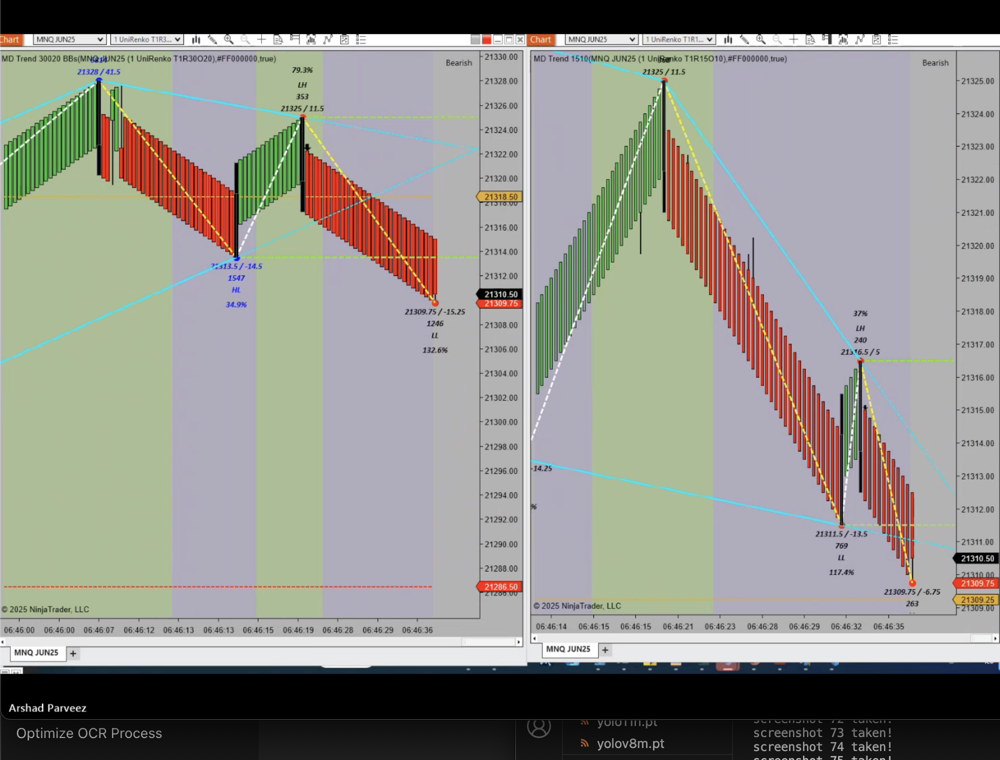HL: (228, 280, 246, 300)
LH: (849, 322, 874, 338), (289, 76, 311, 92)
LL: (424, 327, 451, 347), (835, 549, 850, 566)
